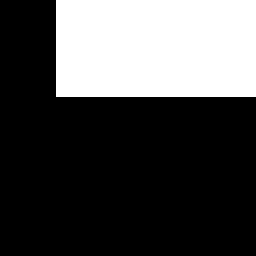rumex: (56, 0, 256, 96)
